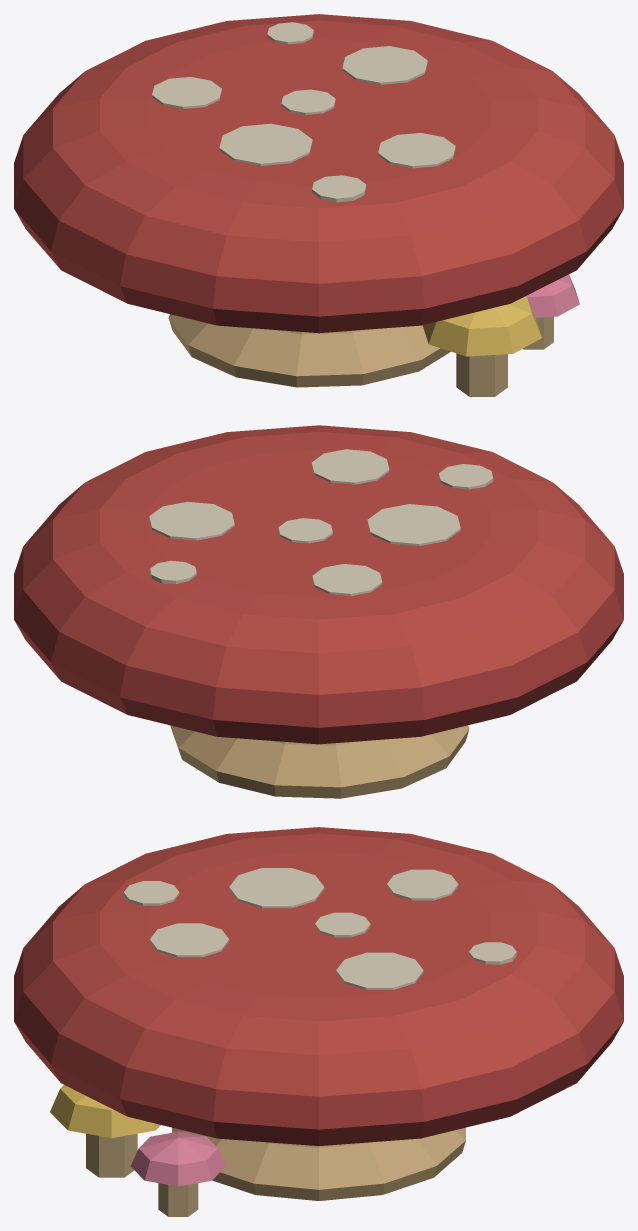
The model's file is phoenix_pad_mushroom.fbx.
The picture shows the model from 3 angles, top to bottom: view 1: azimuth 30°, elevation 25°; view 2: azimuth 150°, elevation 25°; view 3: azimuth 270°, elevation 25°; orthographic projection.
Parts seen in each view (by area): view 1: phoenix_pad_mushroom; view 2: phoenix_pad_mushroom; view 3: phoenix_pad_mushroom.
Part boxes in pixels (left/top/right/bottom): phoenix_pad_mushroom: left=14, top=14, right=623, bottom=396; phoenix_pad_mushroom: left=14, top=425, right=623, bottom=798; phoenix_pad_mushroom: left=14, top=827, right=623, bottom=1216.
Size of the model in its own units: 7.8 by 3 by 7.68.
